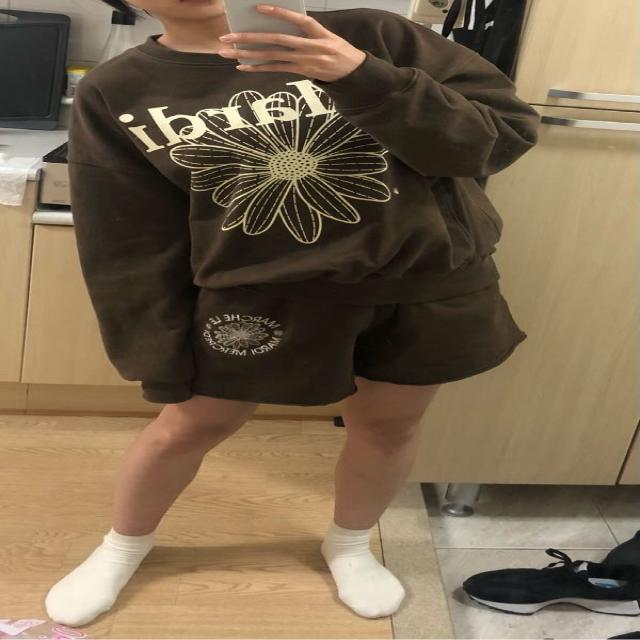mtm: (68, 10, 542, 401)
shortpants: (164, 272, 538, 408)
